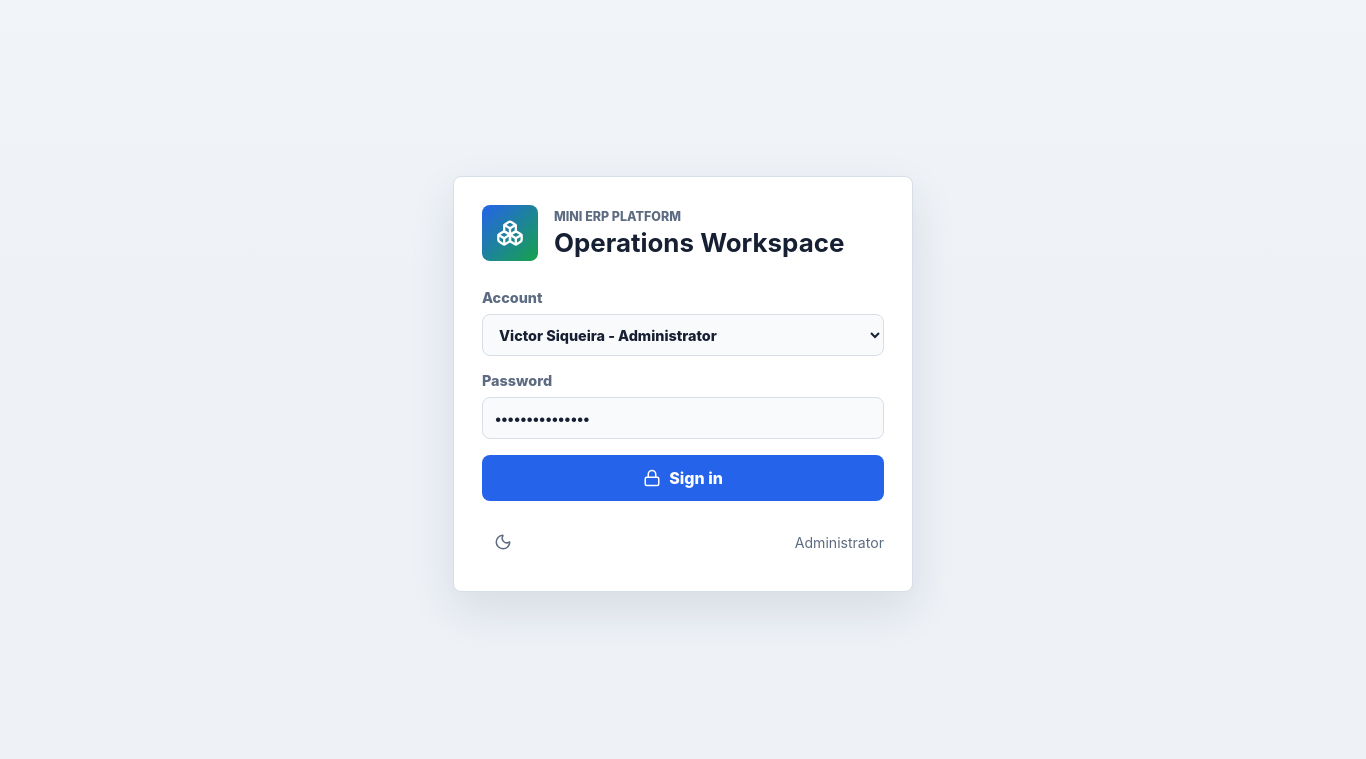
Test: App › authenticates into the Mini ERP workspace
This screenshot has width=1366, height=759.
Click the button "Sign in" at [683, 478], box [482,455,884,501]
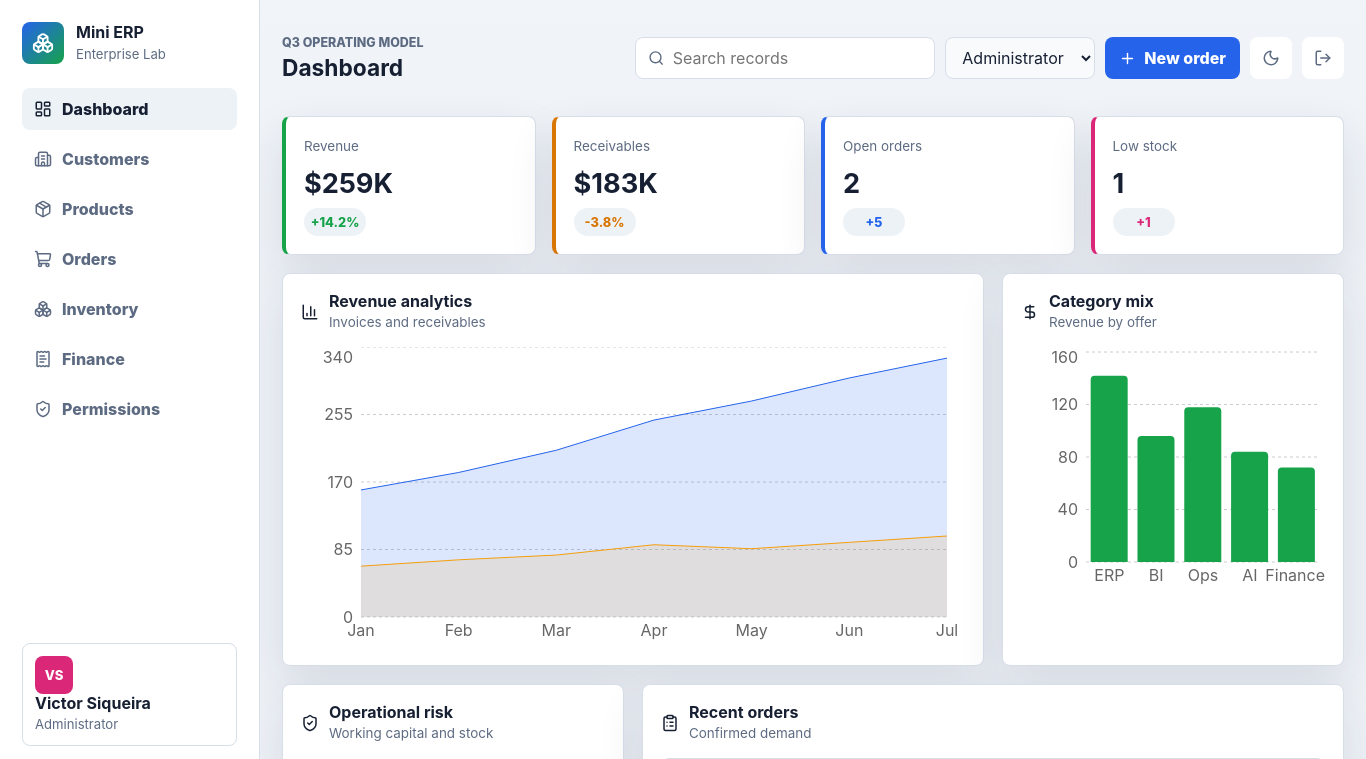
Check: the heading "Dashboard" is shown, box [282,54,424,81]
Check: the text "Revenue" is shown, box [304,138,359,154]
Check: the navigation bar named "primary navigation" is shown, box [22,88,237,430]
